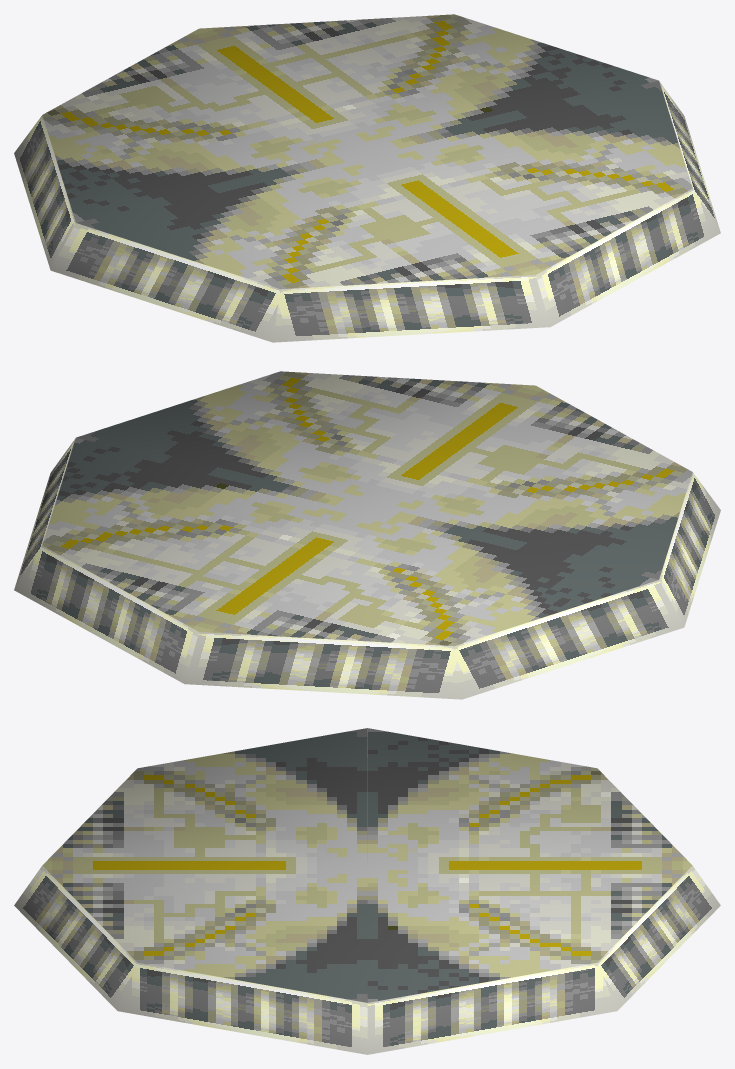
File: RobotAssemblyBayY_Anim.glb
The picture shows the model from 3 angles, top to bottom: view 1: azimuth 30°, elevation 25°; view 2: azimuth 150°, elevation 25°; view 3: azimuth 270°, elevation 25°; orthographic projection. The views are drawn at different scales.
Parts seen in each view (by area): view 1: RobotAssemblyBayY_Anim_part00; view 2: RobotAssemblyBayY_Anim_part00; view 3: RobotAssemblyBayY_Anim_part00.
Boxes of the visible parts, x1,y1,x2,y2 form: RobotAssemblyBayY_Anim_part00: [14, 14, 720, 342]; RobotAssemblyBayY_Anim_part00: [14, 371, 720, 699]; RobotAssemblyBayY_Anim_part00: [14, 728, 720, 1054].
Size of the model in its own units: 32 by 2 by 32.
5 materials, 5 textured.
